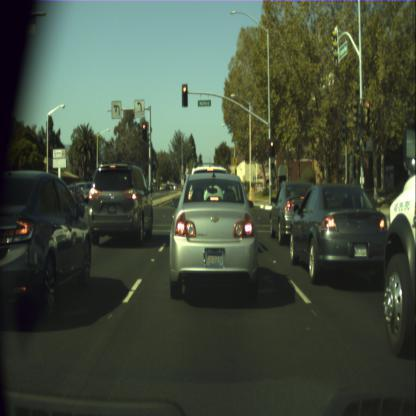Red: (181, 84, 188, 106), (365, 100, 370, 126)
RedLeft: (141, 120, 147, 140)
Yellow: (268, 139, 274, 157)
